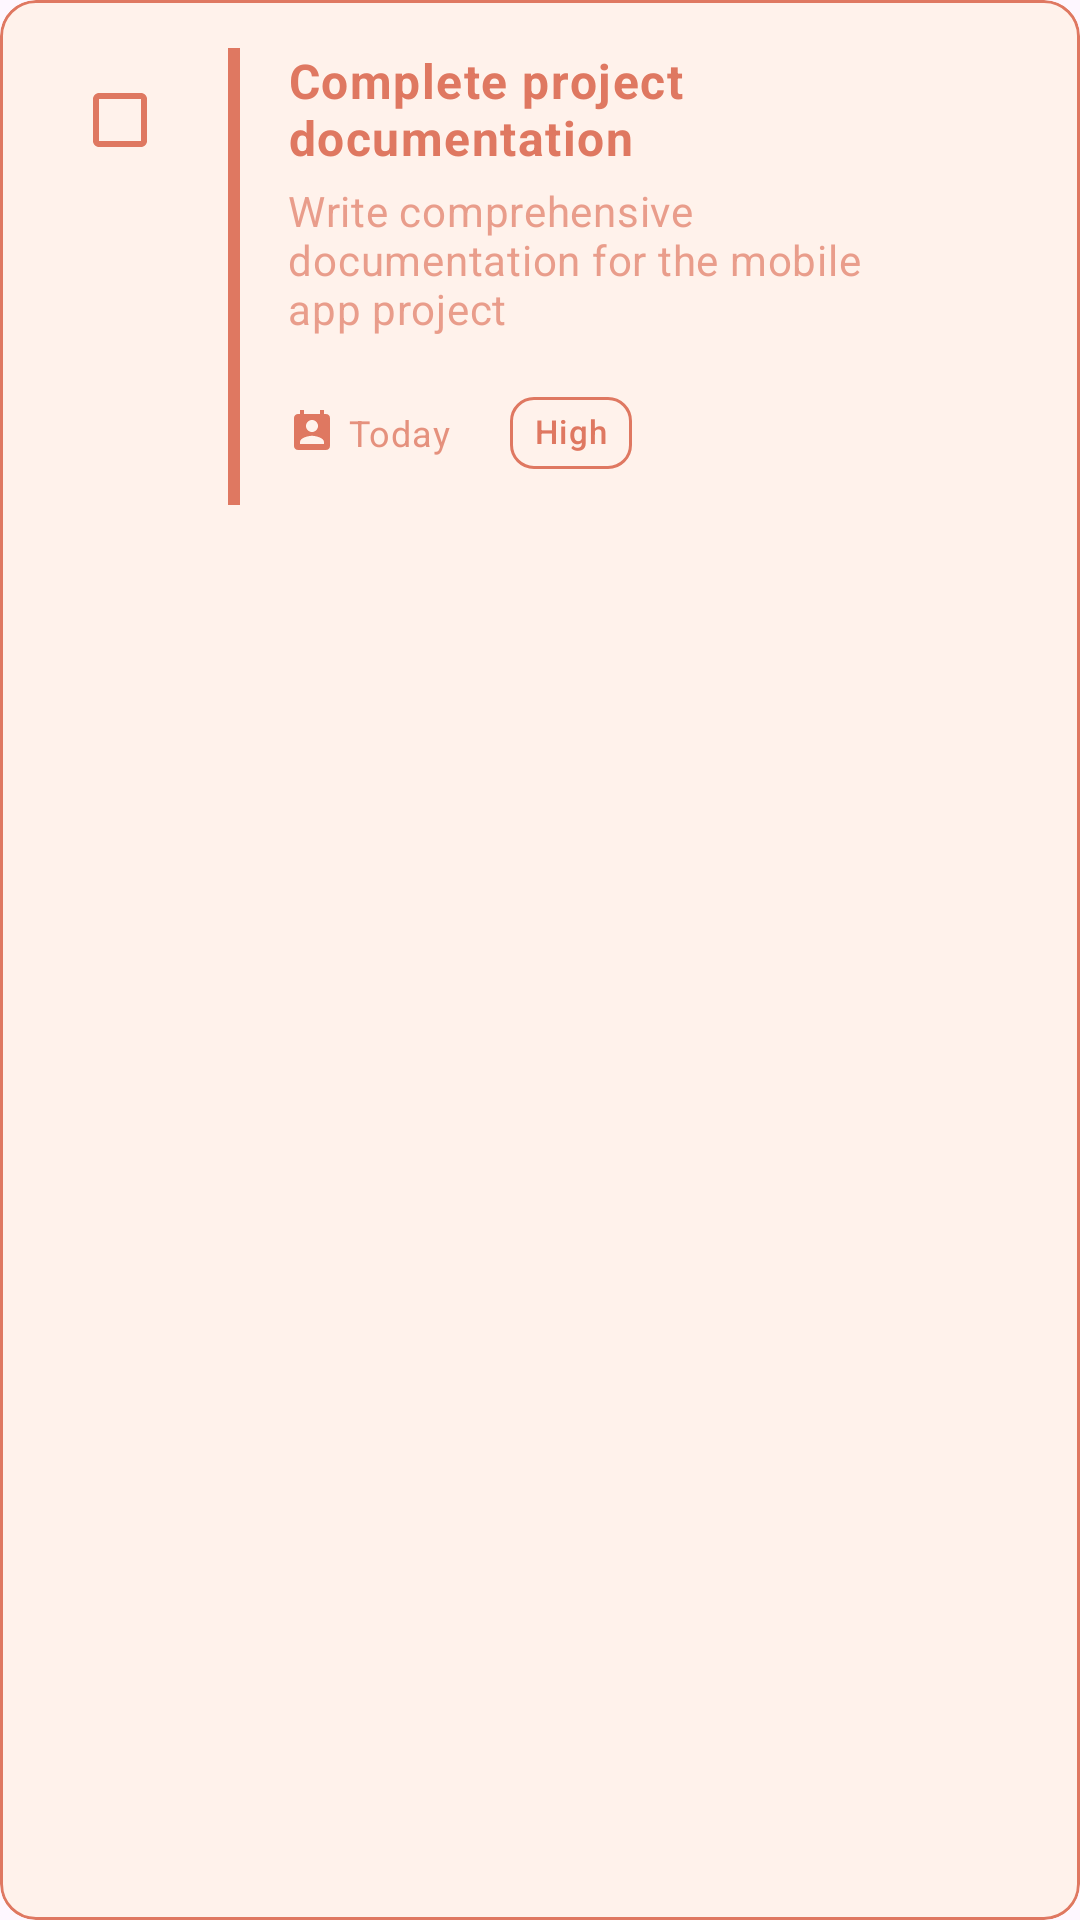

Where to tap for icons on this 1080x1920 app screen, as (x,y):
calendar: (312,430)
